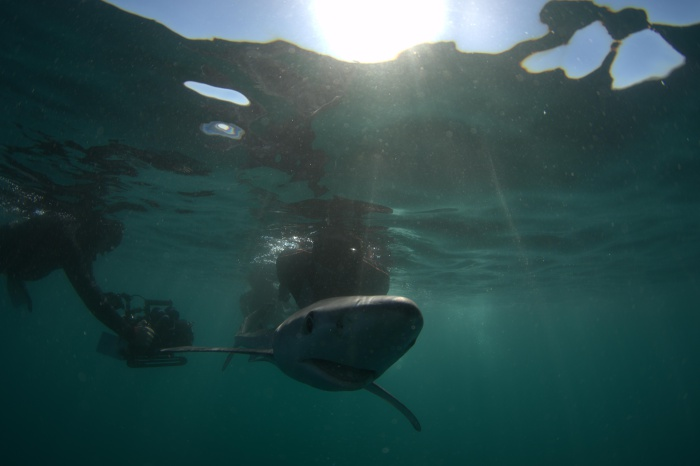Azul: (156, 248, 456, 448)
